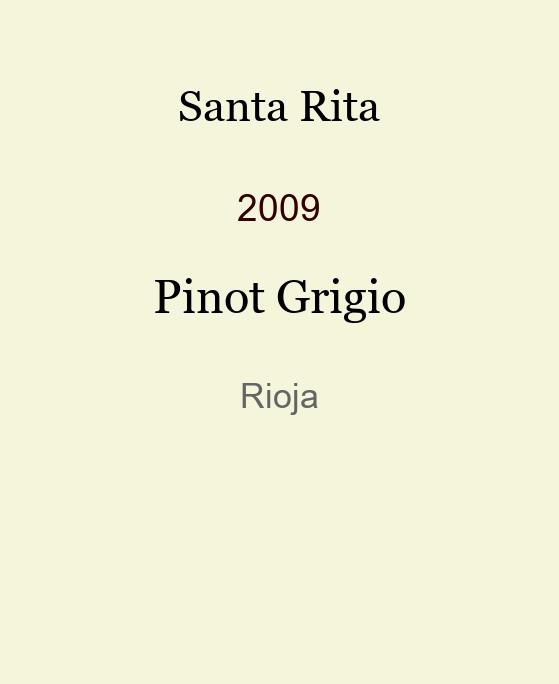brand: (178, 80, 380, 112)
region: (240, 377, 319, 409)
variety: (153, 269, 406, 314)
vintage: (237, 187, 321, 214)
